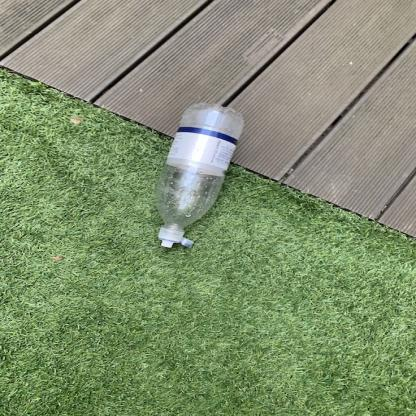trash: (151, 103, 245, 250)
